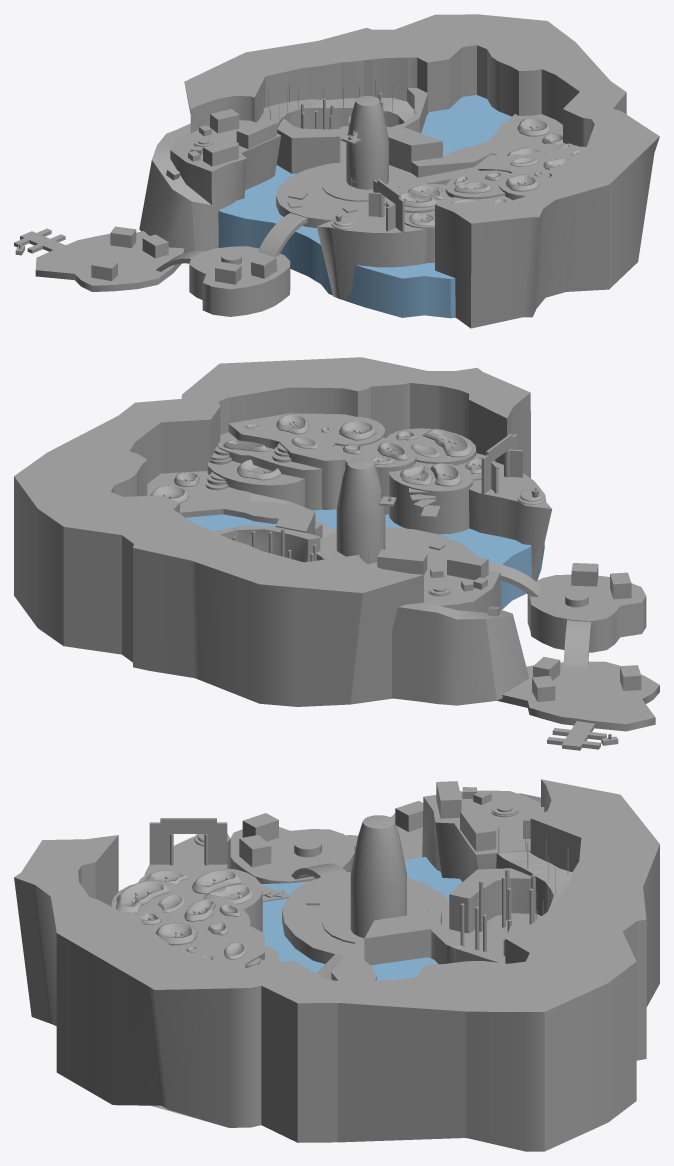
File: grupo 1 blockout.fbx
The picture shows the model from 3 angles, top to bottom: view 1: azimuth 30°, elevation 25°; view 2: azimuth 150°, elevation 25°; view 3: azimuth 270°, elevation 25°; orthographic projection. The views are drawn at different scales.
Parts seen in each view (by area): view 1: exterior_wall, m_floor, w_waterfall, hs_floor1, wall, p_beach, p_floor1, h_s_goddess_statue, h_floor1, w_lake, hs_floor, f_slope (+18 smaller); view 2: exterior_wall, m_floor, p_beach, p_floor1, hs_floor1, h_s_goddess_statue, hs_floor7, hs_floor4, wall, hs_floor, w_waterfall, hs_floor3 (+15 smaller); view 3: exterior_wall, wall, m_floor, h_s_goddess_statue, h_floor1, p_floor1, w_waterfall, f_slope, hs_floor7, hs_floor1, f_floor, hs_floor6 (+20 smaller).
Part boxes in pixels (x1,y1,x2,y2): exterior_wall: (184,14,659,328); m_floor: (139,120,281,252); w_waterfall: (218,165,455,318); hs_floor1: (317,209,427,300); wall: (277,87,442,177); p_beach: (35,231,184,291); p_floor1: (189,246,290,316); h_s_goddess_statue: (342,96,388,189); h_floor1: (276,161,420,227); w_lake: (421,95,511,156); hs_floor: (412,114,562,177); f_slope: (257,98,414,164); exterior_wall: (14,357,530,706); m_floor: (374,563,529,705); p_beach: (497,661,659,731); p_floor1: (527,574,646,652); hs_floor1: (469,463,552,581); h_s_goddess_statue: (336,457,396,563); hs_floor7: (228,413,357,509); hs_floor4: (389,461,472,534); wall: (213,501,345,562); hs_floor: (147,471,321,529); w_waterfall: (313,509,544,609); hs_floor3: (207,461,304,507); exterior_wall: (14,779,659,1151); wall: (364,868,536,965); m_floor: (422,790,540,881); h_s_goddess_statue: (350,815,406,938); h_floor1: (282,872,450,963); p_floor1: (230,827,354,883); w_waterfall: (261,857,462,972); f_slope: (496,851,572,915); hs_floor7: (170,925,264,967); hs_floor1: (144,833,230,875); f_floor: (446,913,541,953); hs_floor6: (169,898,250,939).
Size of the model in its own units: 28.98 by 7.18 by 22.66.
